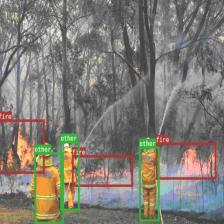fire: (0, 119, 44, 173), (156, 142, 216, 179), (72, 155, 132, 186)
